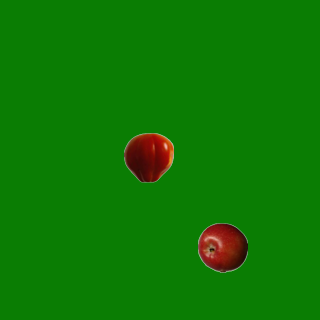Apple Braeburn: (197, 222, 247, 272)
Tomato 1: (123, 132, 173, 182)
